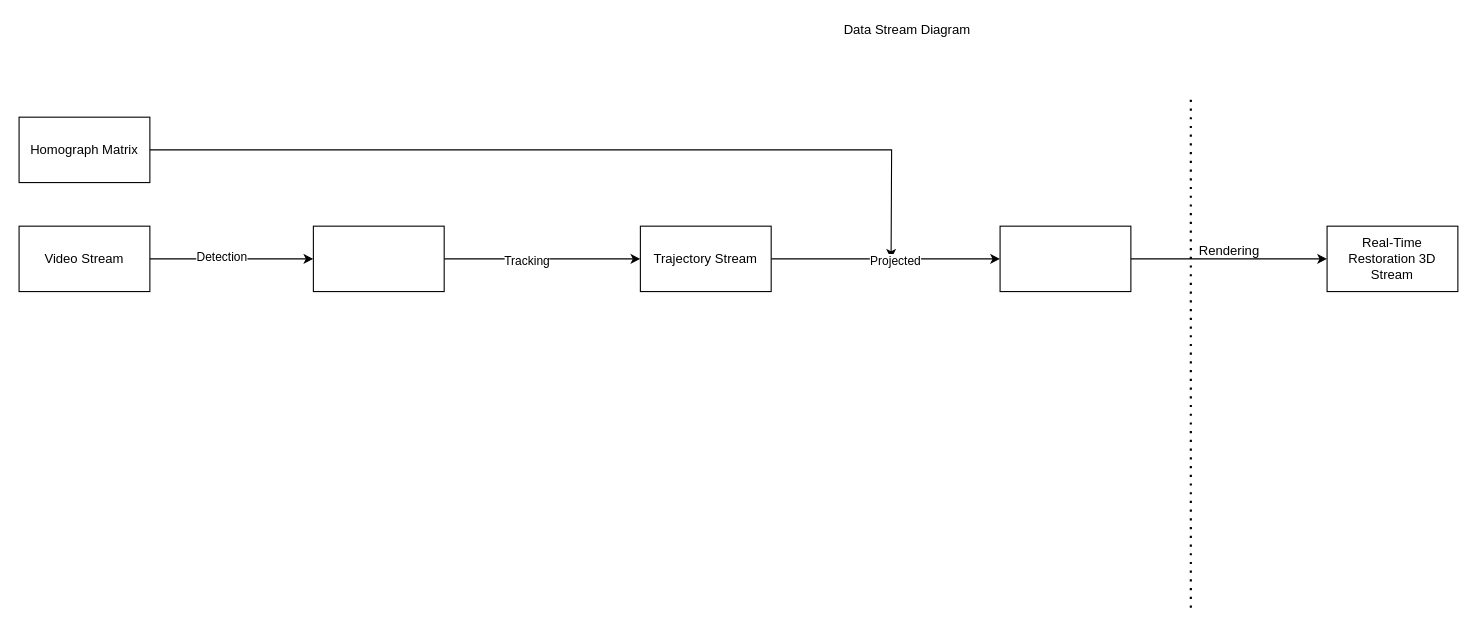
Some shapes in this 1477 by 628 pixel diagram are drawn without their labels. Here are the shapes that lost their labels. From the top down, the box of each, then its label:
(312, 225, 444, 292): Time-Position Frame
(999, 225, 1131, 292): Projected Trajectory Stream
